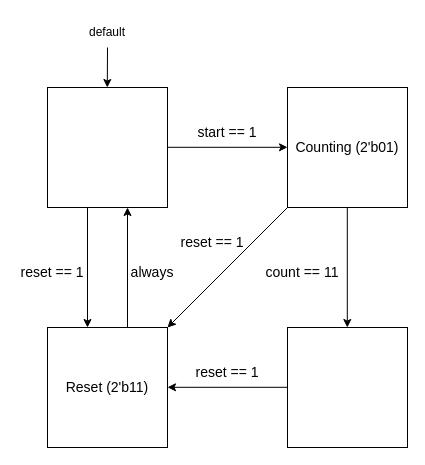
This 425x465 diagram has some shape labels left out. The centre of each missing label's shape, as x and y in pixels:
Done (2'b10): (347,387)
Loading (2'b00): (107,147)
